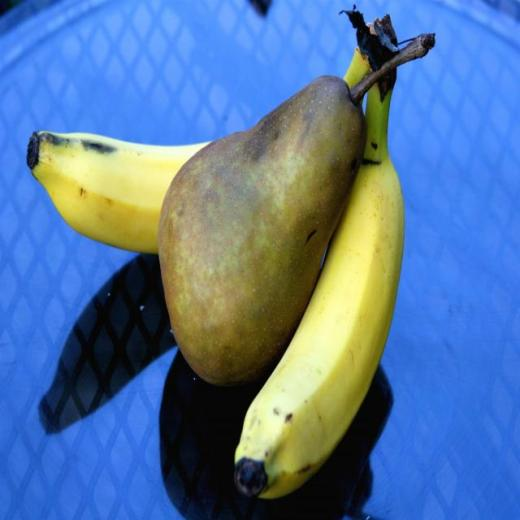Banana: (235, 74, 404, 498), (26, 48, 369, 253)
